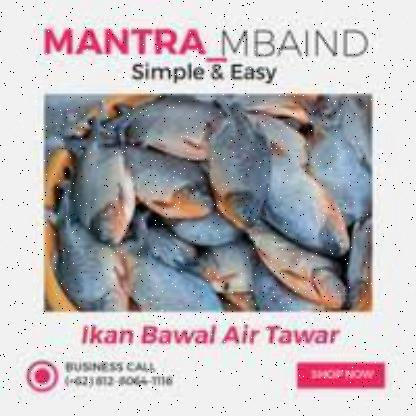ikan-pacu: (50, 204, 134, 310), (266, 158, 354, 252), (73, 131, 143, 245), (207, 106, 268, 224), (123, 143, 211, 219)
